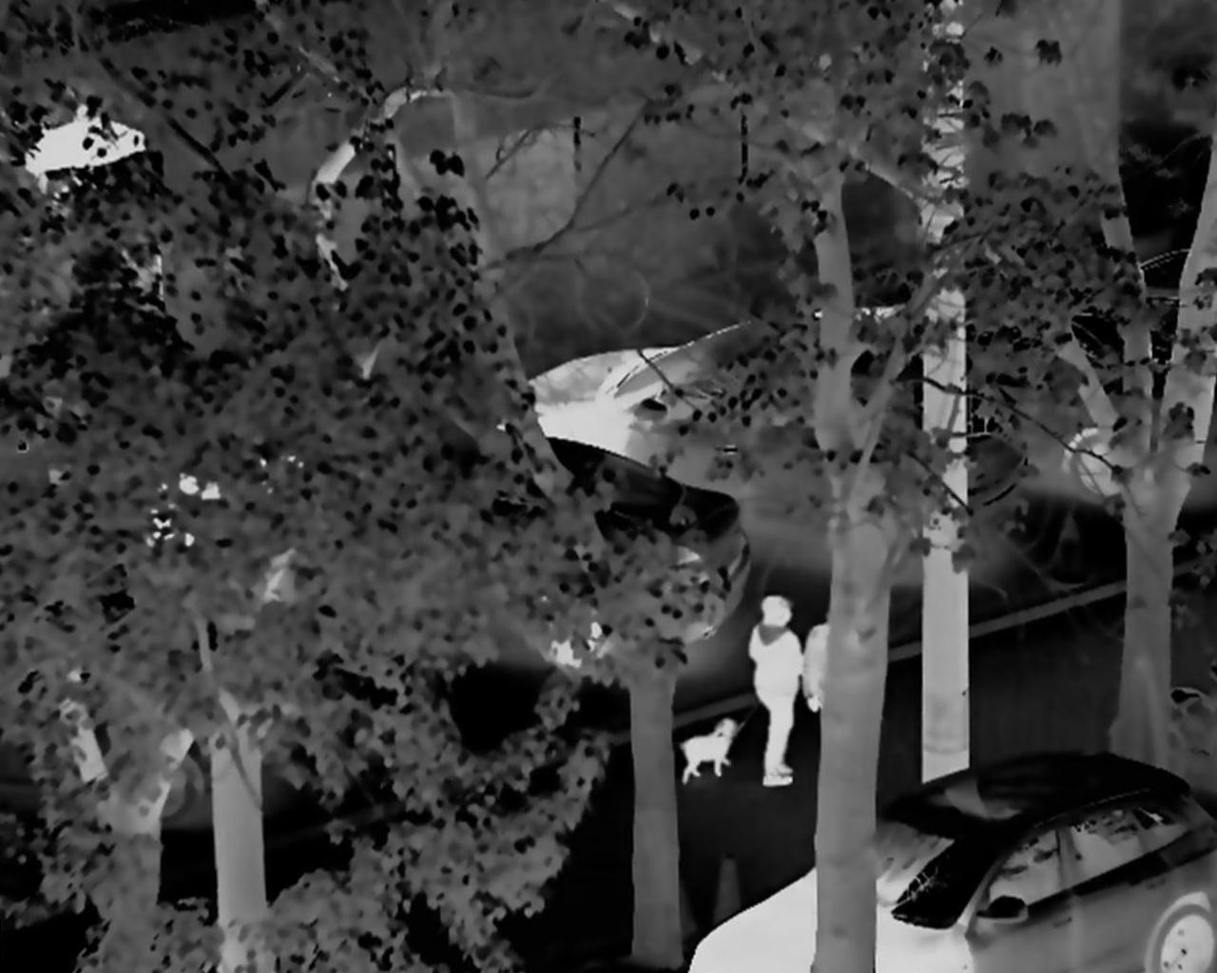person: (745, 585, 809, 795), (803, 607, 858, 761)
